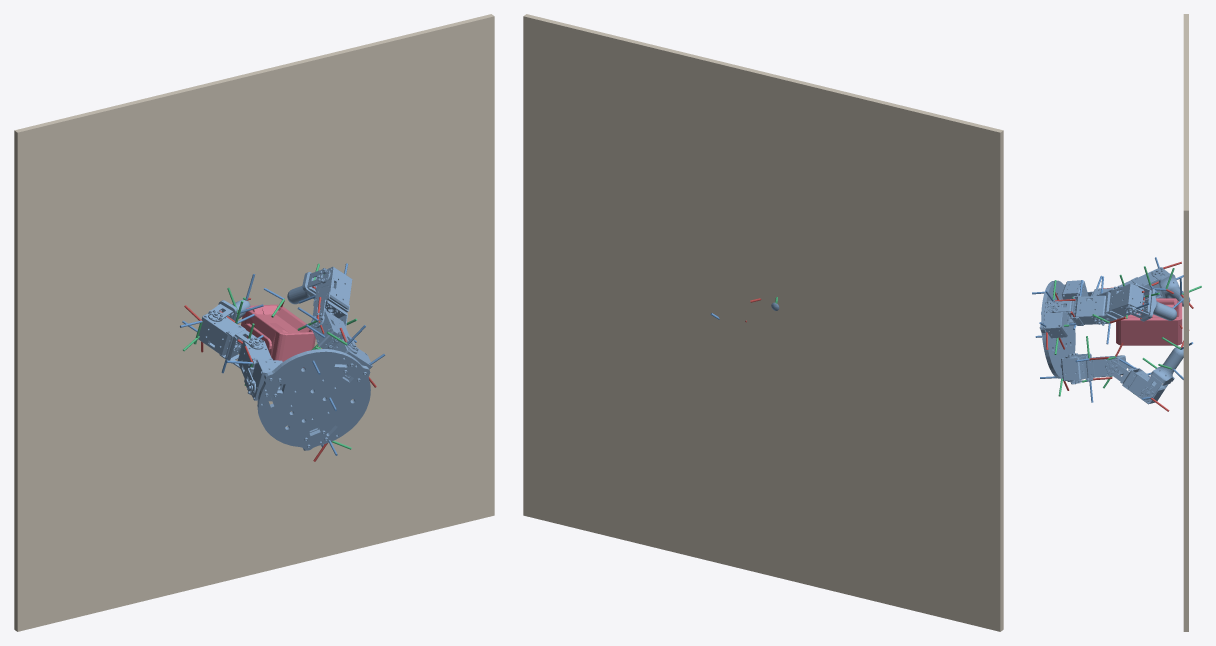
3 views of the same model, side by side, from view 1: azimuth 30°, elevation 25°; view 2: azimuth 150°, elevation 25°; view 3: azimuth 270°, elevation 25° (orthographic). The views are drawn at different scales.
Parts seen in each view (by area): view 1: environment, hand, target_object; view 2: environment; view 3: hand, environment, target_object.
Boxes of the visible parts, x1=… form: environment: x1=14, y1=14, x2=494, y2=631; hand: x1=198, y1=266, x2=372, y2=450; target_object: x1=241, y1=304, x2=315, y2=367; environment: x1=523, y1=14, x2=1003, y2=631; hand: x1=1039, y1=267, x2=1190, y2=404; environment: x1=1183, y1=14, x2=1188, y2=631; target_object: x1=1116, y1=298, x2=1182, y2=345.
Bounding box in the file's own units: 0.7 × 0.7 × 0.2559.
